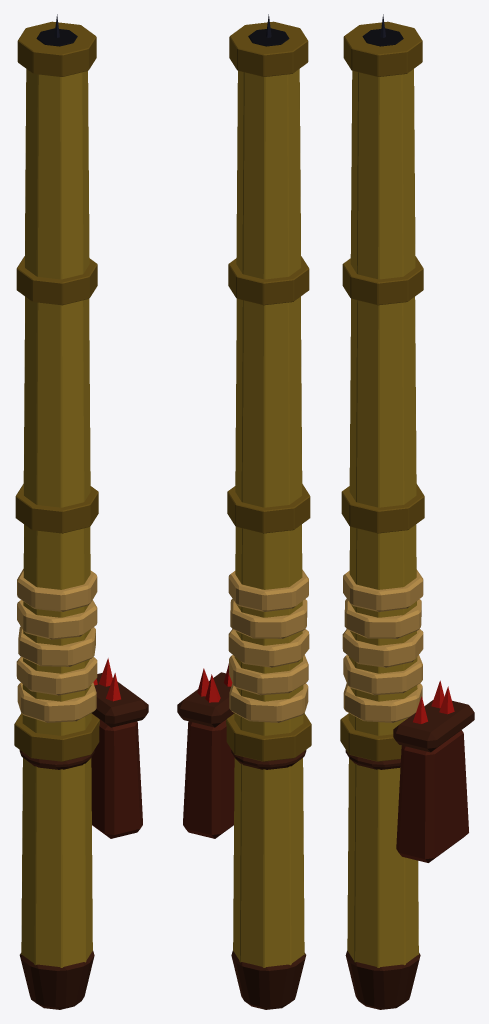
The model's file is myw_blowpipe.obj.
3 renders of one model, left to right at view 1: azimuth 30°, elevation 25°; view 2: azimuth 150°, elevation 25°; view 3: azimuth 330°, elevation 25°, orthographic.
Parts seen in each view (by area): view 1: Pipe, Wrap, DartPouch, Mouthpiece, PouchDarts; view 2: Pipe, Wrap, DartPouch, Mouthpiece, PouchDarts; view 3: Pipe, DartPouch, Wrap, Mouthpiece, PouchDarts.
Boxes of the visible parts, x1,y1,x2,y2 form: Pipe: [14, 21, 99, 967]; Wrap: [16, 569, 97, 722]; DartPouch: [19, 673, 148, 838]; Mouthpiece: [19, 951, 94, 1009]; PouchDarts: [93, 658, 120, 701]; Pipe: [226, 21, 311, 967]; Wrap: [228, 569, 309, 722]; DartPouch: [177, 672, 306, 838]; Mouthpiece: [231, 951, 306, 1009]; PouchDarts: [197, 663, 232, 702]; Pipe: [340, 21, 424, 967]; DartPouch: [345, 700, 474, 862]; Wrap: [342, 569, 423, 722]; Mouthpiece: [345, 951, 420, 1009]; PouchDarts: [413, 680, 454, 723].
Size of the model in its own units: 0.4443 by 3.9 by 0.32.
